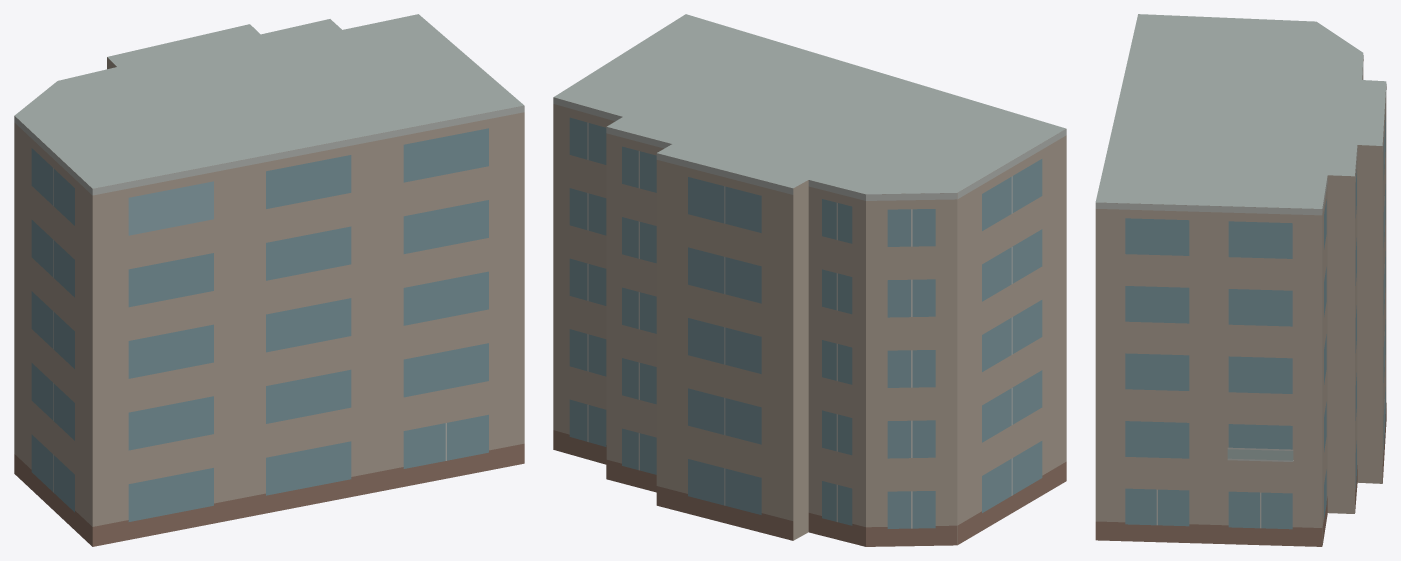
File: survey-upis-32530015.glb
3 renders of one model, left to right at view 1: azimuth 30°, elevation 25°; view 2: azimuth 150°, elevation 25°; view 3: azimuth 270°, elevation 25°, orthographic. The views are drawn at different scales.
Parts seen in each view (by area): view 1: survey-upis-32530015.tmp; view 2: survey-upis-32530015.tmp; view 3: survey-upis-32530015.tmp.
Boxes of the visible parts, x1,y1,x2,y2 form: survey-upis-32530015.tmp: (14, 14, 524, 546); survey-upis-32530015.tmp: (553, 14, 1066, 546); survey-upis-32530015.tmp: (1095, 14, 1386, 546).
Bounding box in the file's own units: 16.1 × 13 × 10.16.
